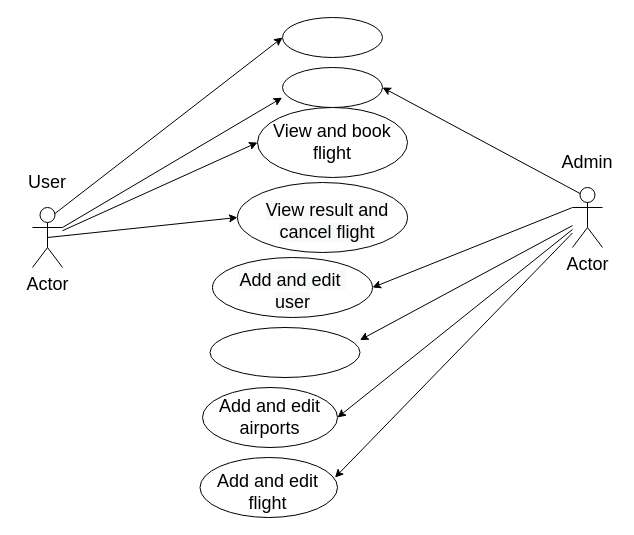
Image size: 634x535. Some labels were removed from this diagram. The shapes that lost their labels are listed below. From the top down, each one's box as (x1, y1, x2, y2) in pixels, then its label:
(282, 16, 382, 58): Register
(282, 66, 382, 108): Login
(209, 326, 360, 378): Add and edit airline
